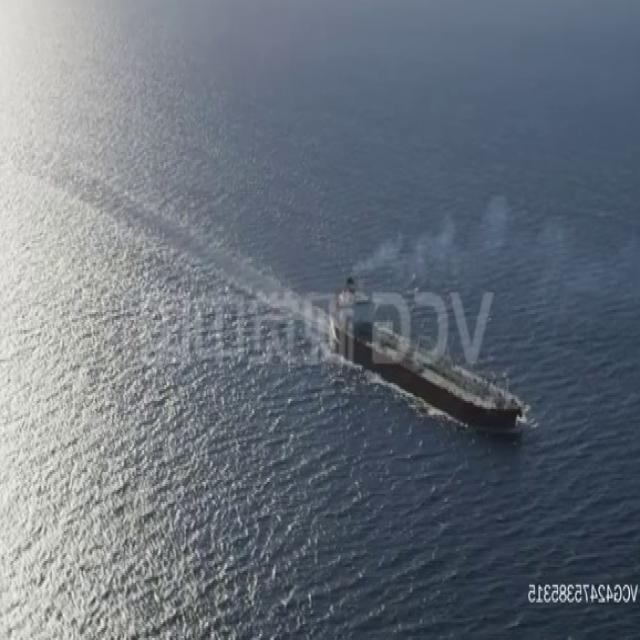cargoship: (331, 271, 534, 431)
